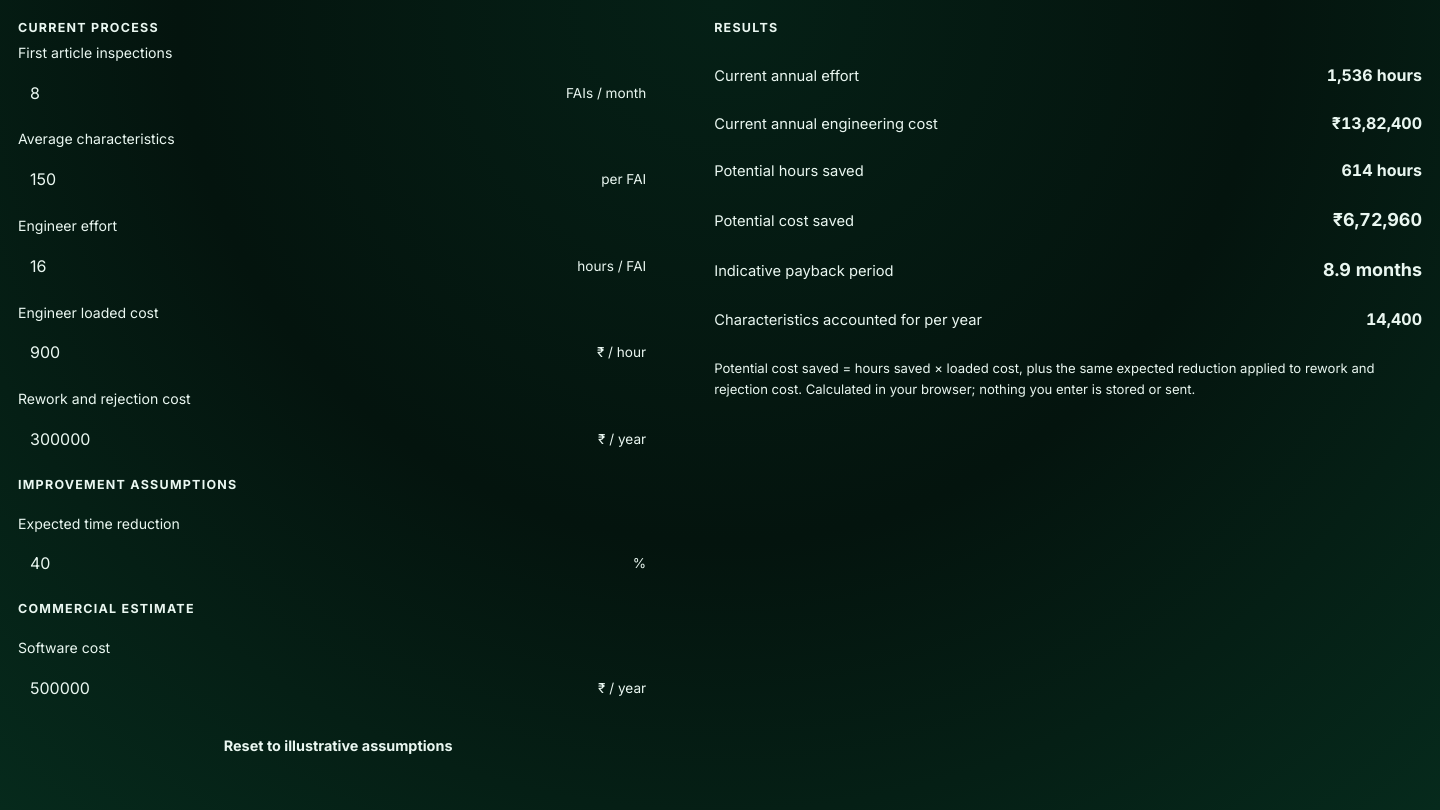
Test: RoiCalculator › says when the cost is not recovered
Clear the number field labelled "Expected time reduction" at (319, 564), box left=18, top=541, right=621, bottom=587
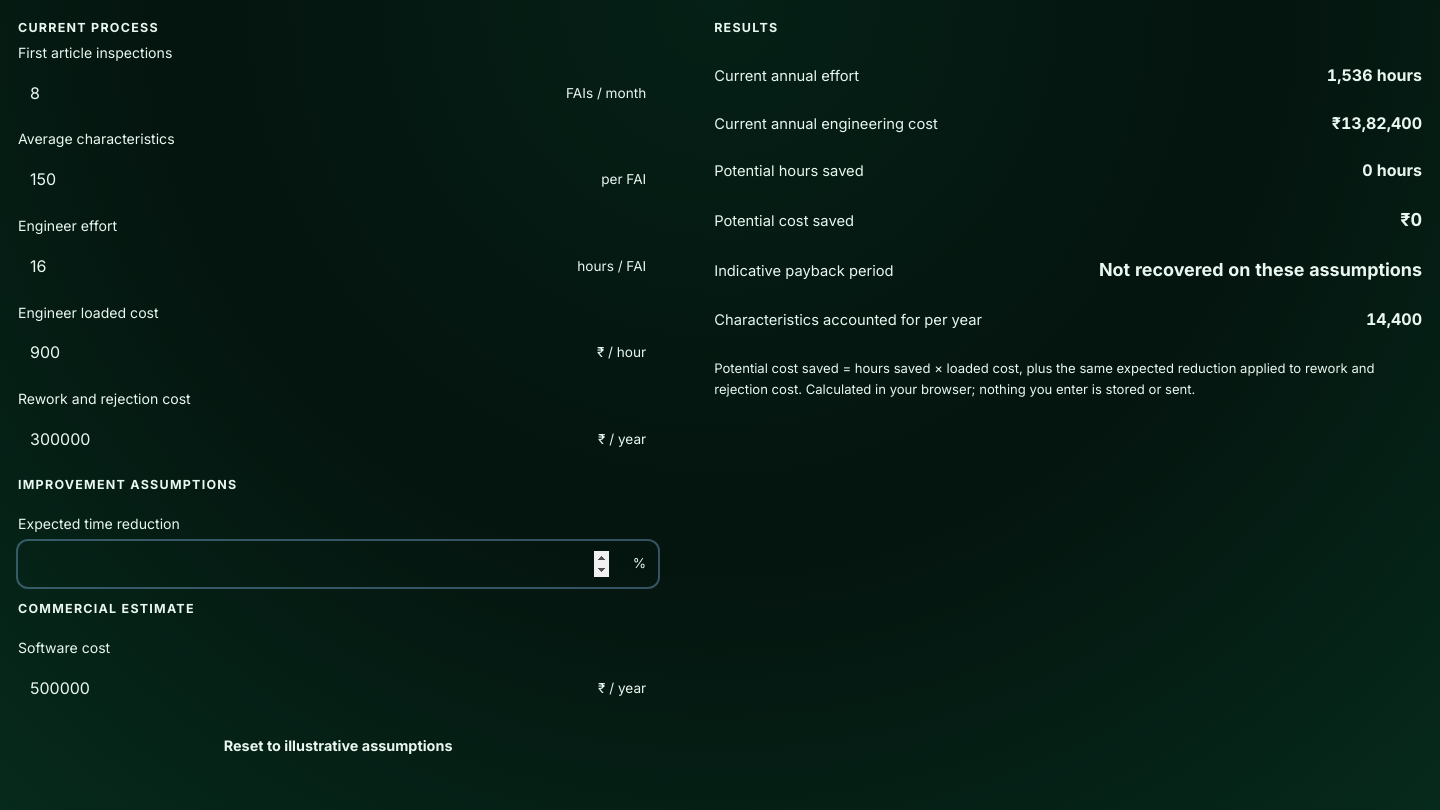
Expected: the text "Not recovered on these assumptions" is shown, left=1099, top=256, right=1422, bottom=285
